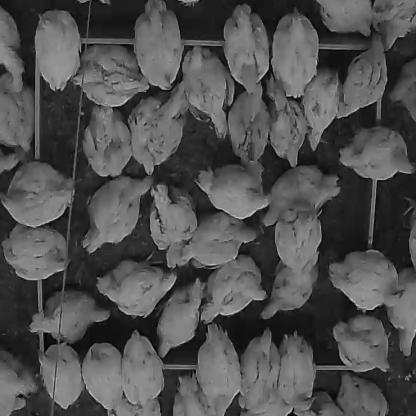chicken: (82, 173, 155, 254), (129, 85, 193, 175), (0, 161, 78, 226), (78, 41, 150, 110), (265, 164, 341, 228), (155, 276, 211, 362), (198, 260, 269, 327), (178, 210, 260, 268), (336, 34, 390, 122), (147, 177, 197, 272), (259, 247, 321, 322), (329, 249, 405, 310), (96, 262, 178, 318), (195, 160, 270, 221), (220, 6, 271, 94), (31, 290, 112, 345), (34, 8, 82, 96), (136, 3, 184, 89), (185, 46, 228, 140), (272, 12, 319, 98), (267, 76, 311, 167), (342, 127, 414, 182), (228, 80, 273, 168), (82, 100, 134, 176), (199, 322, 241, 415), (3, 226, 74, 280), (301, 66, 344, 152), (240, 326, 281, 415), (0, 67, 39, 154), (334, 316, 392, 374), (122, 330, 164, 410), (274, 204, 322, 270), (282, 332, 319, 413), (83, 340, 124, 413), (0, 343, 40, 415), (42, 340, 84, 408), (169, 373, 231, 415), (391, 262, 415, 356), (319, 1, 374, 40), (336, 376, 390, 415), (372, 0, 415, 48), (0, 6, 23, 92), (393, 52, 415, 124), (299, 391, 346, 415)
